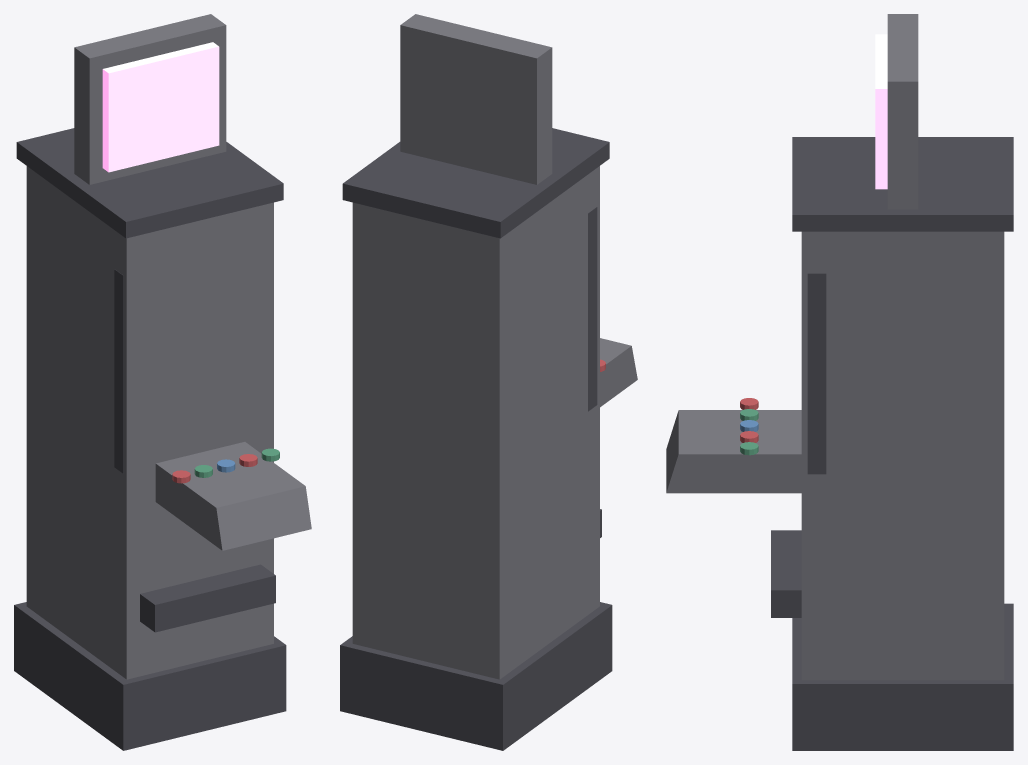
The model's file is casino-floor-and-back-rooms-slot-upright-0689c21c.glb.
3 renders of one model, left to right at view 1: azimuth 30°, elevation 25°; view 2: azimuth 150°, elevation 25°; view 3: azimuth 270°, elevation 25°, orthographic.
Visible parts, largest first — view 1: slot-upright; view 2: slot-upright; view 3: slot-upright.
Part boxes in pixels (x1,y1,x2,y2): slot-upright: (14,14,311,750); slot-upright: (340,14,637,750); slot-upright: (666,14,1013,750).
Bounding box in the file's own units: 0.62 × 2.38 × 1.13.
